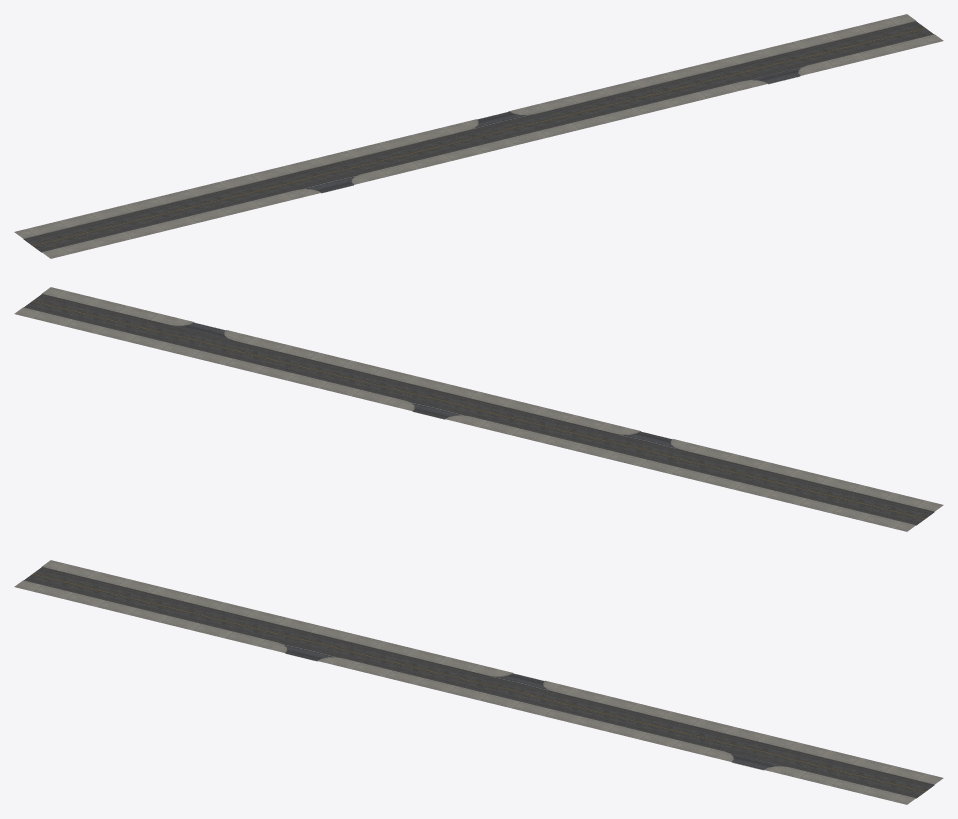
File: vegasnroad085.obj
The picture shows the model from 3 angles, top to bottom: view 1: azimuth 30°, elevation 25°; view 2: azimuth 150°, elevation 25°; view 3: azimuth 330°, elevation 25°; orthographic projection.
Parts seen in each view (by area): view 1: VegasNroad085; view 2: VegasNroad085; view 3: VegasNroad085.
Boxes of the visible parts, x1,y1,x2,y2 form: VegasNroad085: [14, 14, 943, 258]; VegasNroad085: [14, 287, 943, 531]; VegasNroad085: [14, 560, 943, 804].
Size of the model in its own units: 280 by 0.2216 by 20.01.
3 materials, 3 textured.
